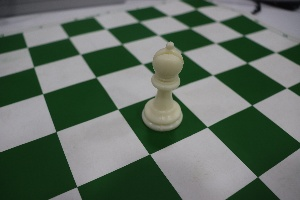white_bishop: (140, 22, 192, 141)
